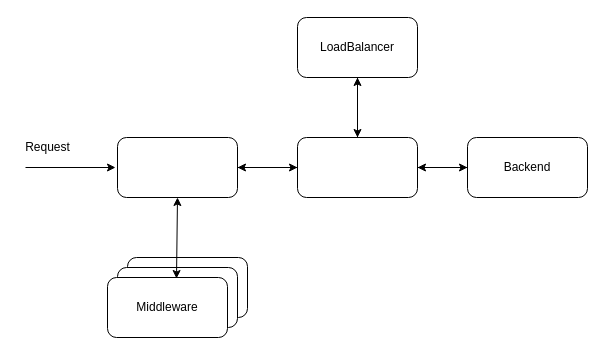
Some shapes in this 605 by 355 pixel diagram are drawn without their labels. The shapes that lost their labels are listed below. From the top down, each one's box as (x1, y1, x2, y2) in pixels, then its label:
(116, 136, 238, 198): Rule
(296, 136, 418, 198): Service
